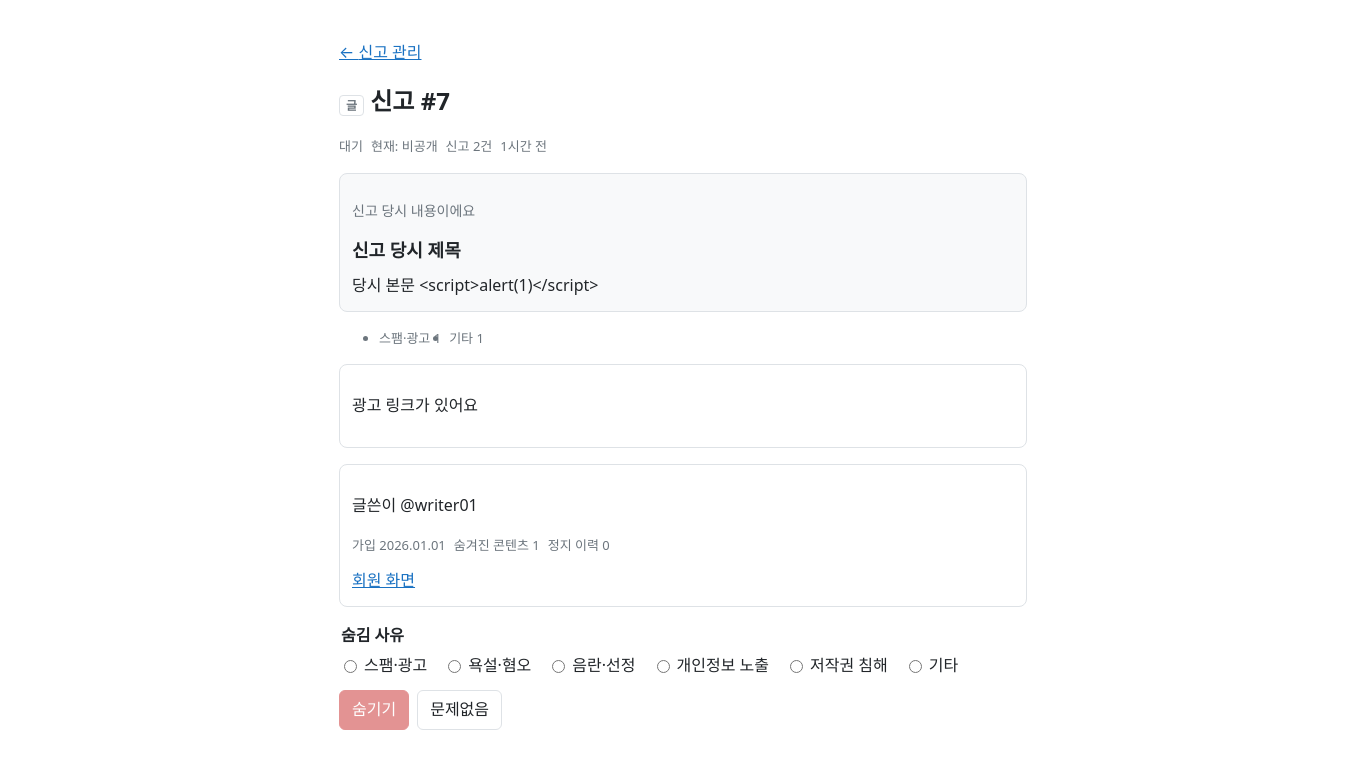
Test: AdminReportDetailPage › 숨기기는 사유를 골라야 켜지고 확인 창을 거쳐 보낸다
The image size is (1366, 768).
Expected: the button "숨기기" is disabled, [339,690,409,730]
Click the radio button labelled "스팸·광고" at (350, 667), box [344,660,357,673]
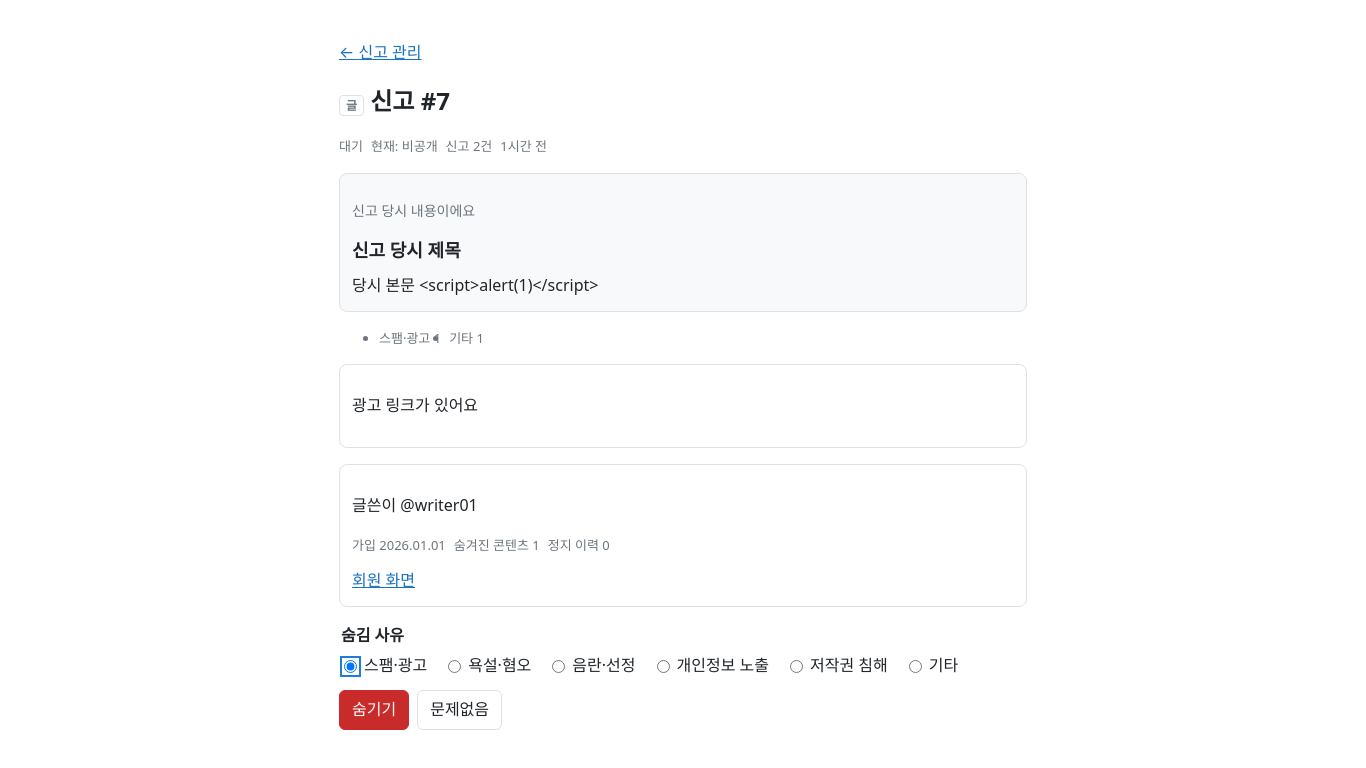
Now the button "숨기기" is enabled
Click the button "숨기기" at (374, 710), box [339,690,409,730]
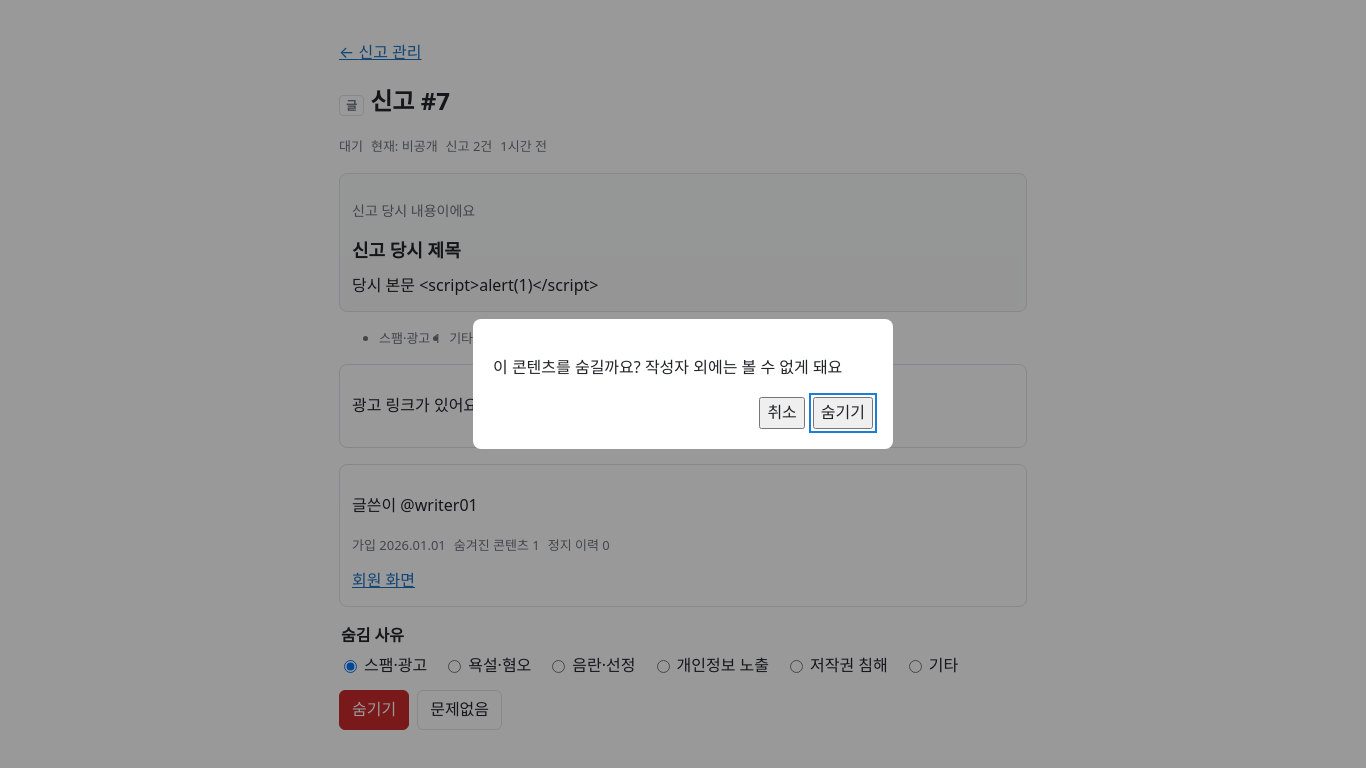
Click the button "숨기기" at (843, 413), box [813,397,873,429]
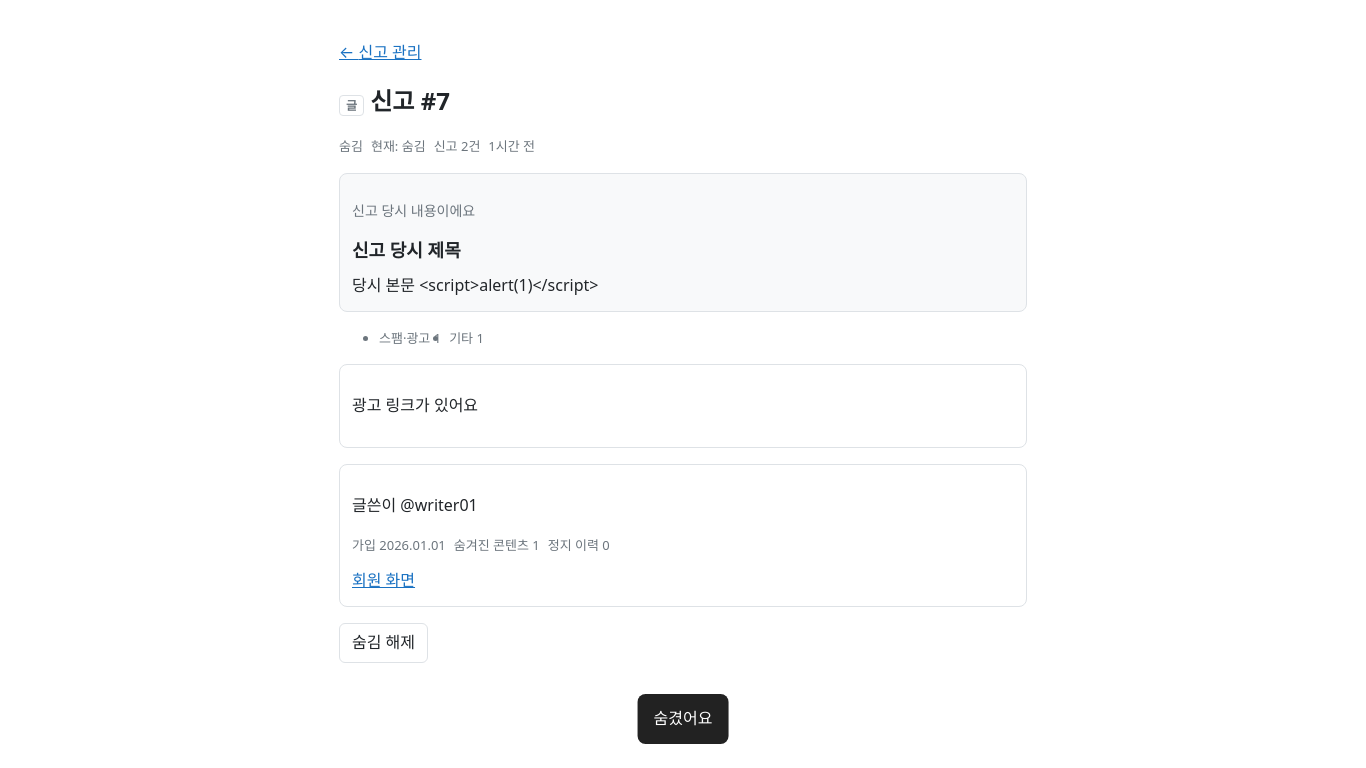
Now the button "숨김 해제" is shown, box [339,623,428,662]
